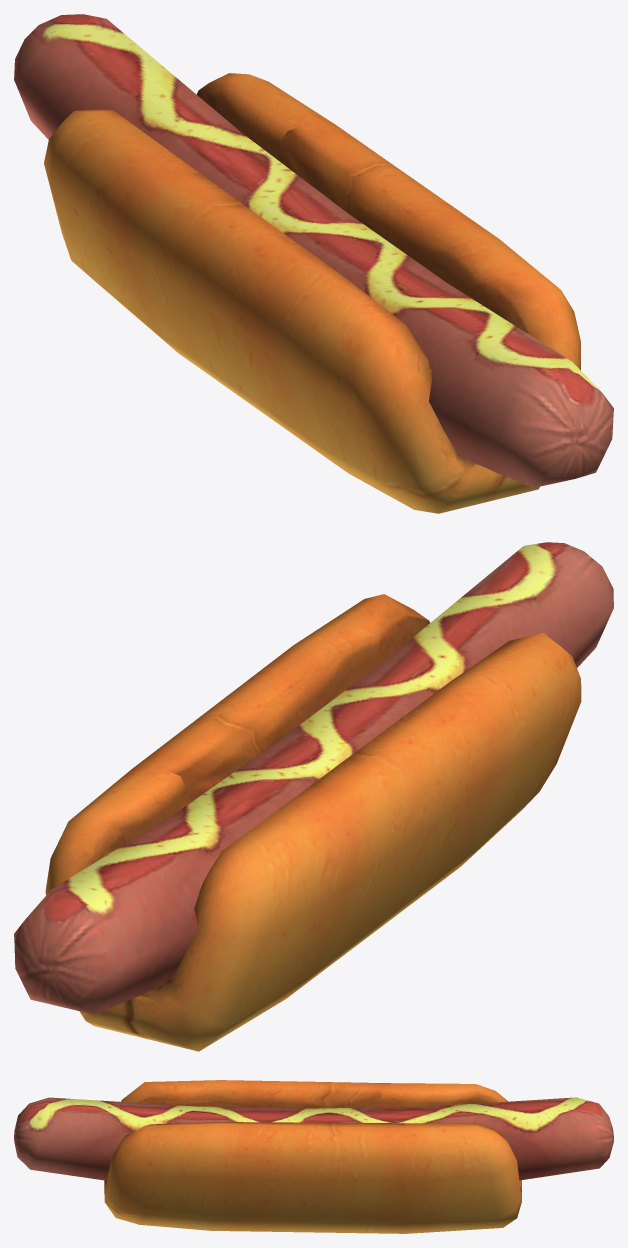
Rendered from hotdog.glb.
The picture shows the model from 3 angles, top to bottom: view 1: azimuth 30°, elevation 25°; view 2: azimuth 150°, elevation 25°; view 3: azimuth 270°, elevation 25°; orthographic projection. The views are drawn at different scales.
Visible parts, largest first — view 1: mesh; view 2: mesh; view 3: mesh.
Boxes of the visible parts, x1=… form: mesh: x1=14, y1=14, x2=613, y2=513; mesh: x1=14, y1=542, x2=613, y2=1051; mesh: x1=14, y1=1080, x2=613, y2=1233.
Size of the model in its own units: 3.93 by 3.31 by 15.38.
1 material, 1 textured.
